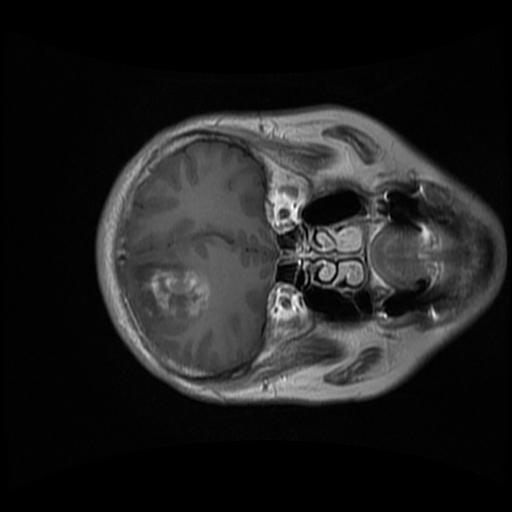glioma: (128, 261, 210, 327)
